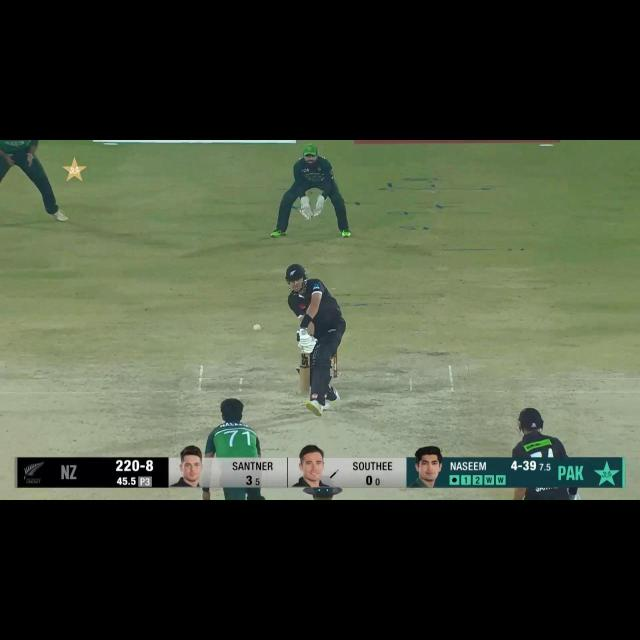bat: (299, 353, 311, 393)
toe: (298, 384, 311, 394)
